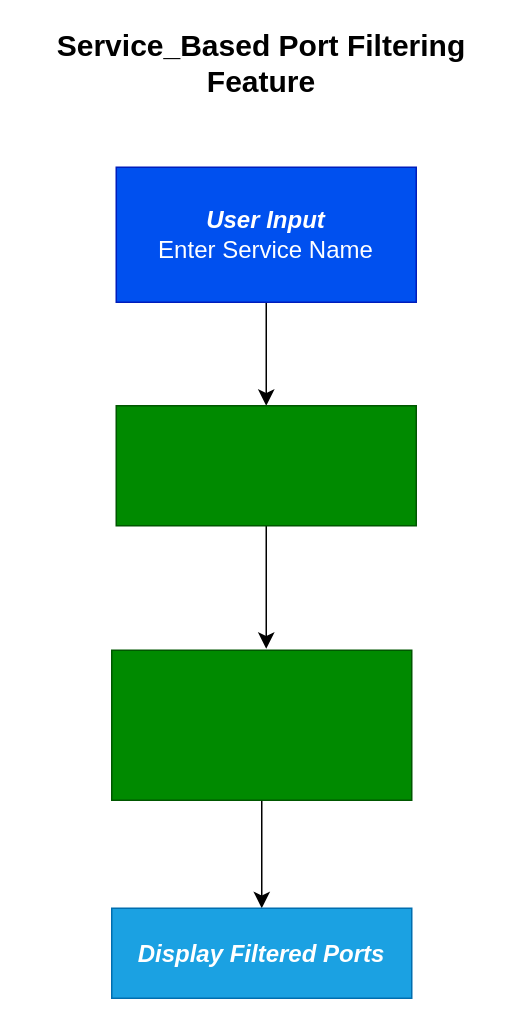
Image size: 522x1025. Some labels were removed from this diagram. Each missing label, with the centre of its shape:
"Scan Results Lists (scan_results)" belongs at point (265, 465).
"Service Filter Filter:(s for s in scan_results if s[2] == service_name)" belongs at point (261, 724).
